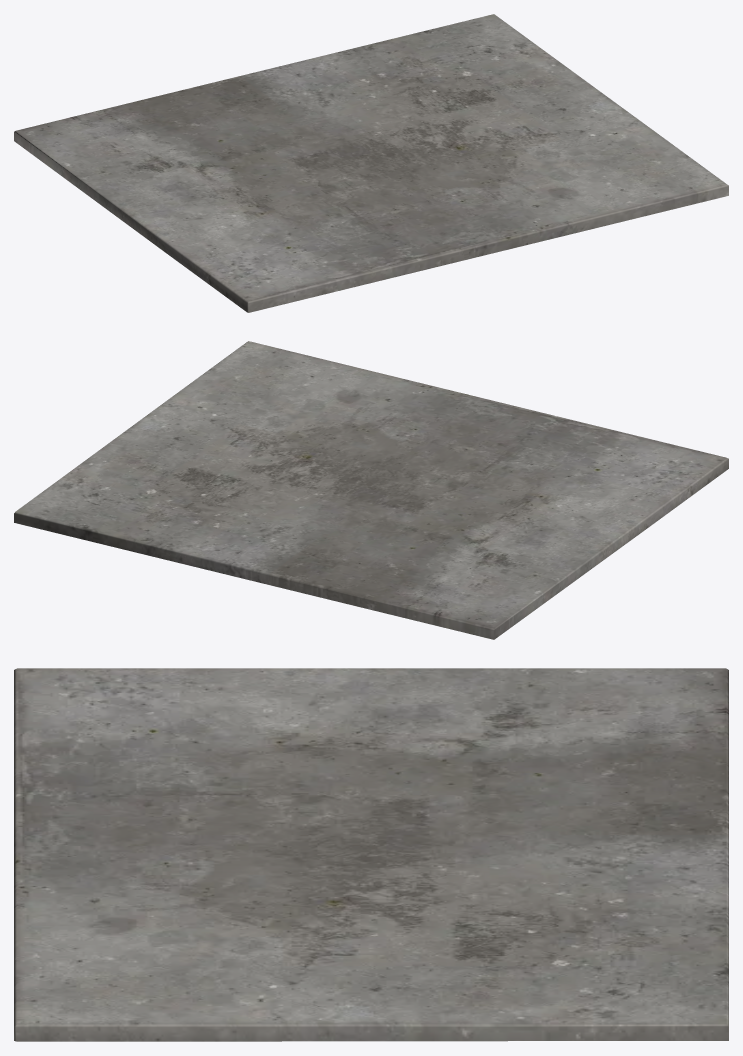
Rendered from curb2.glb.
3 renders of one model, top to bottom at view 1: azimuth 30°, elevation 25°; view 2: azimuth 150°, elevation 25°; view 3: azimuth 270°, elevation 25°, orthographic. The views are drawn at different scales.
Parts seen in each view (by area): view 1: Sidewwalk_Long2_SidewalkMat_0; view 2: Sidewwalk_Long2_SidewalkMat_0; view 3: Sidewwalk_Long2_SidewalkMat_0.
Part boxes in pixels (x1,y1,x2,y2): Sidewwalk_Long2_SidewalkMat_0: (14, 14, 728, 312); Sidewwalk_Long2_SidewalkMat_0: (14, 341, 728, 639); Sidewwalk_Long2_SidewalkMat_0: (14, 668, 728, 1041).
Size of the model in its own units: 6.99 by 0.1493 by 5.9.
1 material, 1 textured.
